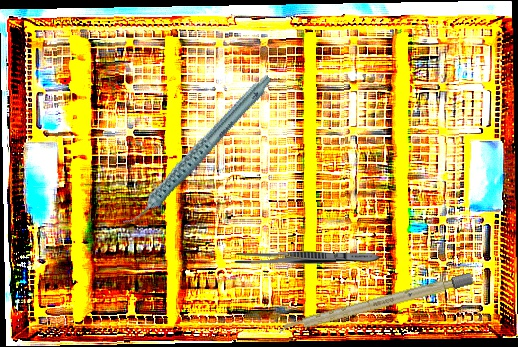Dressing Forceps: (233, 249, 381, 267)
Handpiece: (97, 72, 296, 229)
Scalpel Handle: (276, 272, 475, 336)
